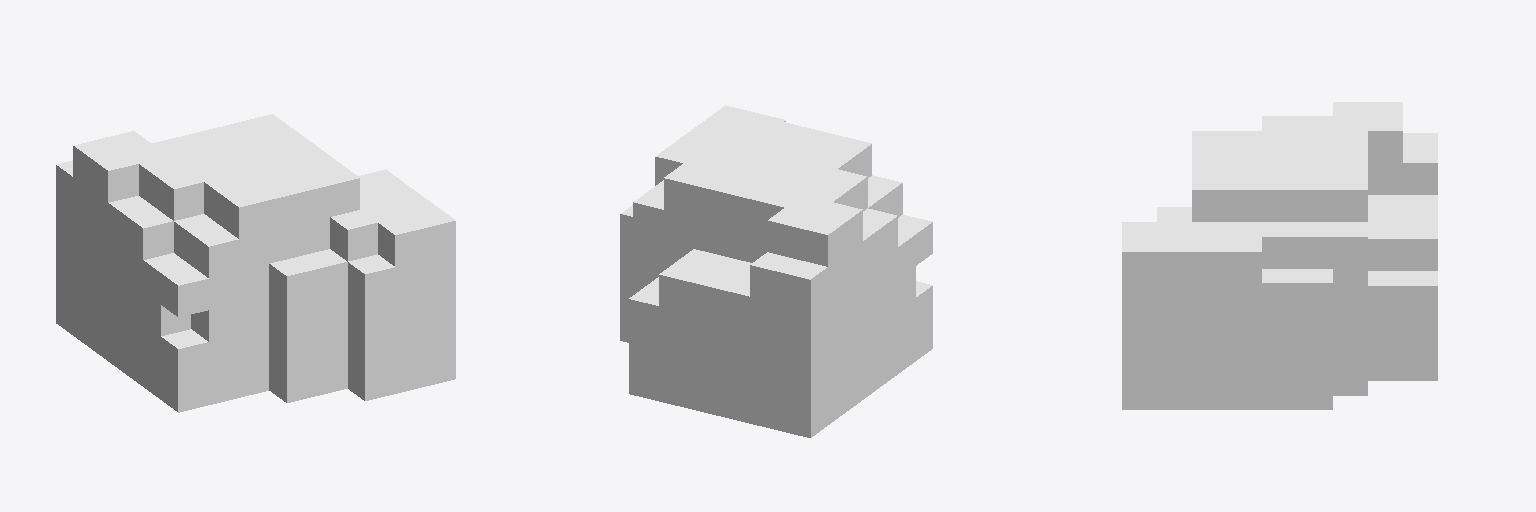
Rendered from PREDA1.obj.
The picture shows the model from 3 angles: view 1: azimuth 30°, elevation 25°; view 2: azimuth 150°, elevation 25°; view 3: azimuth 270°, elevation 25°; orthographic projection.
Parts seen in each view (by area): view 1: object 1; view 2: object 1; view 3: object 1.
Part boxes in pixels (bbox=[...]): object 1: bbox=[56, 114, 455, 412]; object 1: bbox=[620, 105, 932, 437]; object 1: bbox=[1122, 102, 1437, 409].
Bounding box in the file's own units: 0.8 × 0.6 × 0.9.